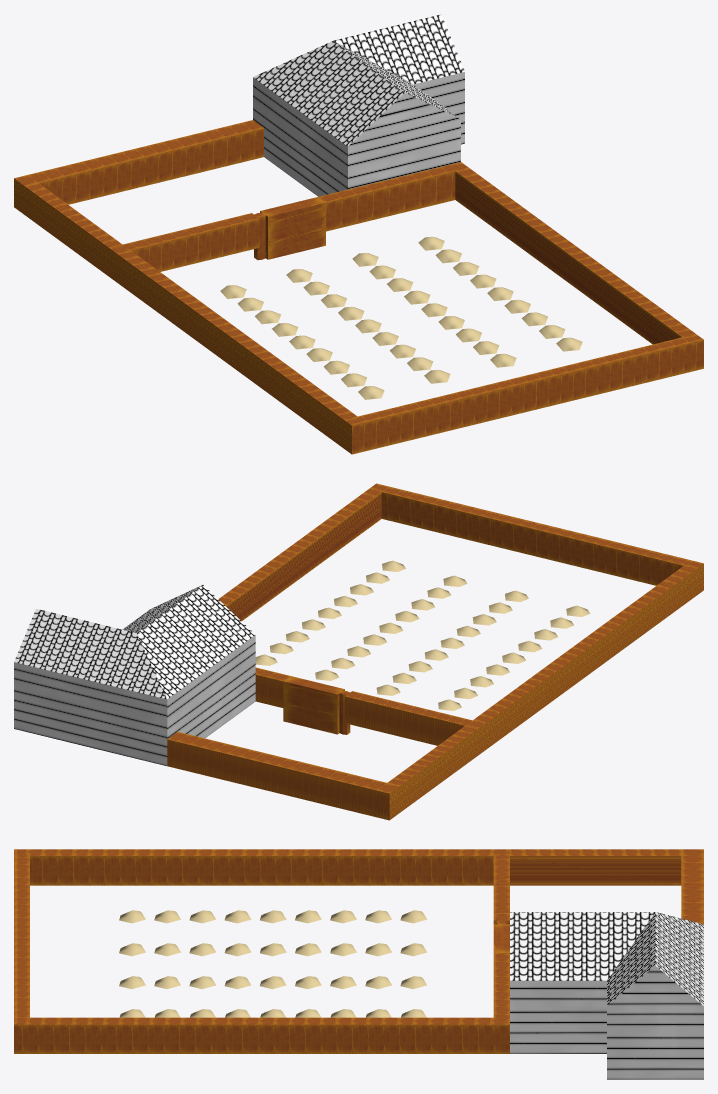
The model's file is gongon_fram.fbx.
The picture shows the model from 3 angles, top to bottom: view 1: azimuth 30°, elevation 25°; view 2: azimuth 150°, elevation 25°; view 3: azimuth 270°, elevation 25°; orthographic projection. The views are drawn at different scales.
Visible parts, largest first — view 1: Fence, FarmHouse, Mound, FenceDoor; view 2: Fence, FarmHouse, Mound, FenceDoor; view 3: Fence, FarmHouse, Mound, FenceDoor.
Part boxes in pixels (bbox=[...]): Fence: bbox=[14, 120, 703, 454]; FarmHouse: bbox=[253, 14, 464, 196]; Mound: bbox=[220, 236, 582, 399]; FenceDoor: bbox=[254, 197, 325, 260]; Fence: bbox=[167, 483, 703, 820]; FarmHouse: bbox=[14, 585, 255, 765]; Mound: bbox=[255, 560, 590, 710]; FenceDoor: bbox=[283, 676, 350, 734]; Fence: bbox=[14, 849, 703, 1053]; FarmHouse: bbox=[510, 912, 703, 1079]; Mound: bbox=[119, 910, 427, 1017]; FenceDoor: bbox=[493, 920, 509, 953].
Bounding box in the file's own units: 2941 × 877 × 4265.
